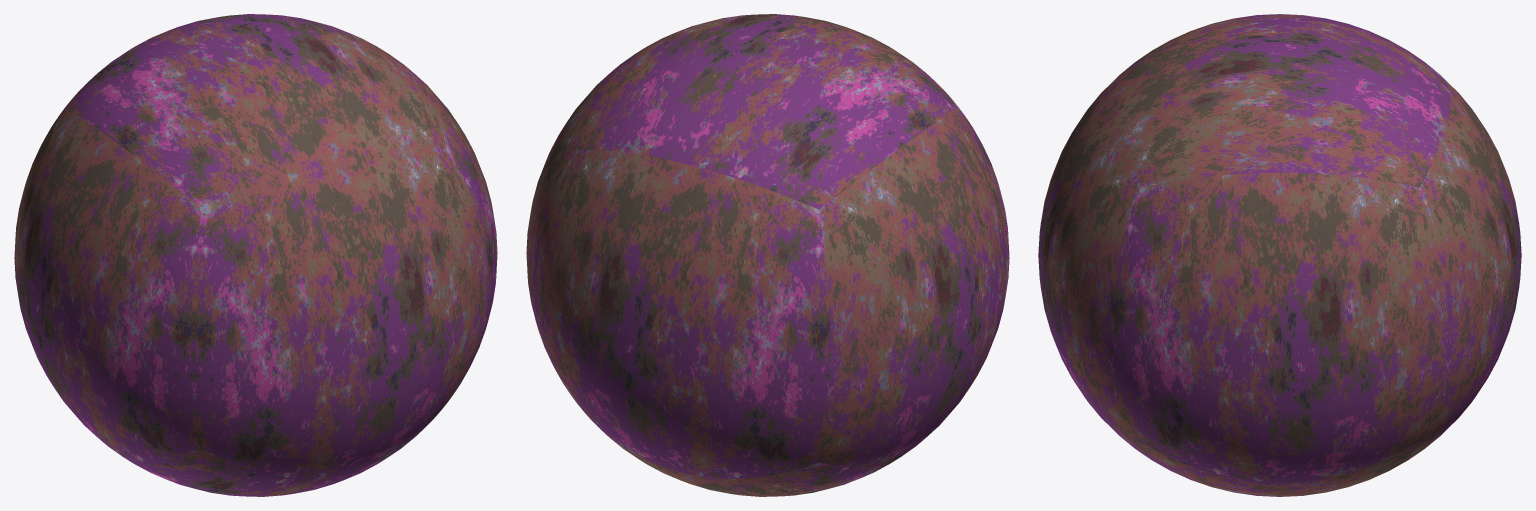
File: SM_Planet_01.fbx
The picture shows the model from 3 angles, left to right: view 1: azimuth 30°, elevation 25°; view 2: azimuth 150°, elevation 25°; view 3: azimuth 270°, elevation 25°; orthographic projection.
Parts seen in each view (by area): view 1: SM_Planet_01; view 2: SM_Planet_01; view 3: SM_Planet_01.
Boxes of the visible parts, x1,y1,x2,y2 form: SM_Planet_01: [14, 14, 497, 496]; SM_Planet_01: [526, 14, 1009, 496]; SM_Planet_01: [1038, 14, 1521, 496].
Size of the model in its own units: 171 by 171 by 171.
